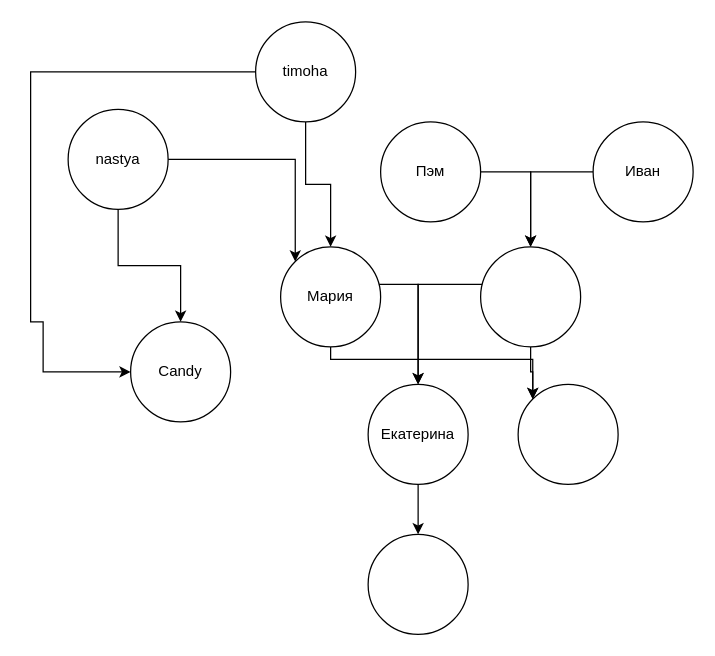
Some shapes in this 715 by 656 pixel diagram are drawn without their labels. Each missing label, with the centre of its shape:
"St" belongs at (x=567, y=433).
"Андрей" belongs at (x=417, y=583).
"Арнольд" belongs at (x=530, y=296).
